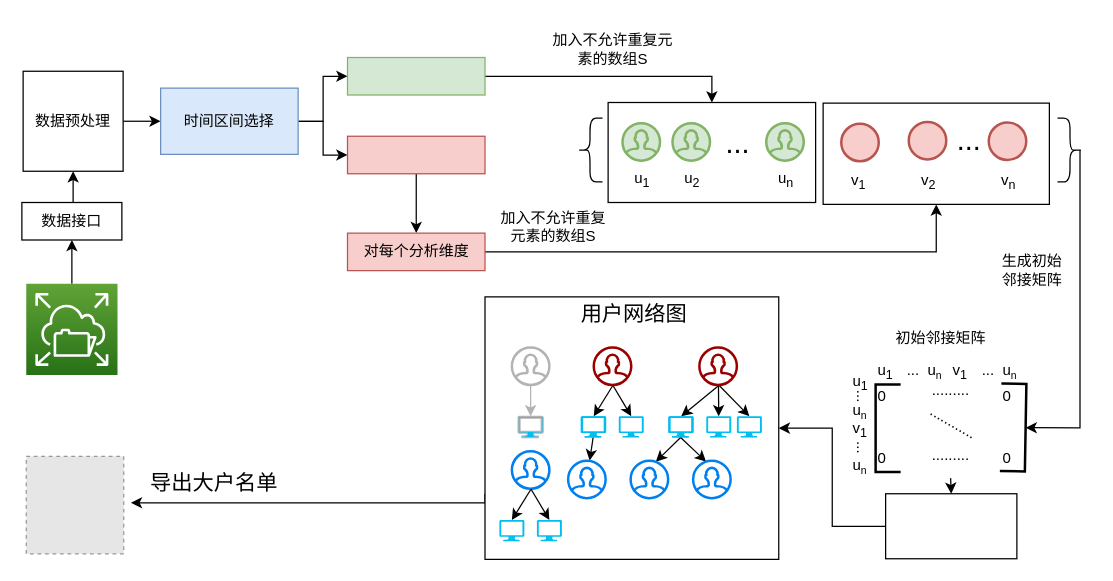
The diagram is 1113 pixels wide and 581 high, and some of its shapes have lost their labels. Grey dashed boxes stand in for pictures. Here are the shapes that lost their labels. From the top down, the centre of each, then its label:
(x=415, y=75): 客户信息
(x=415, y=154): n个分析维度信息
(x=71, y=328): 内管系统
(x=950, y=525): 根据源数据内容 更新邻接矩阵
